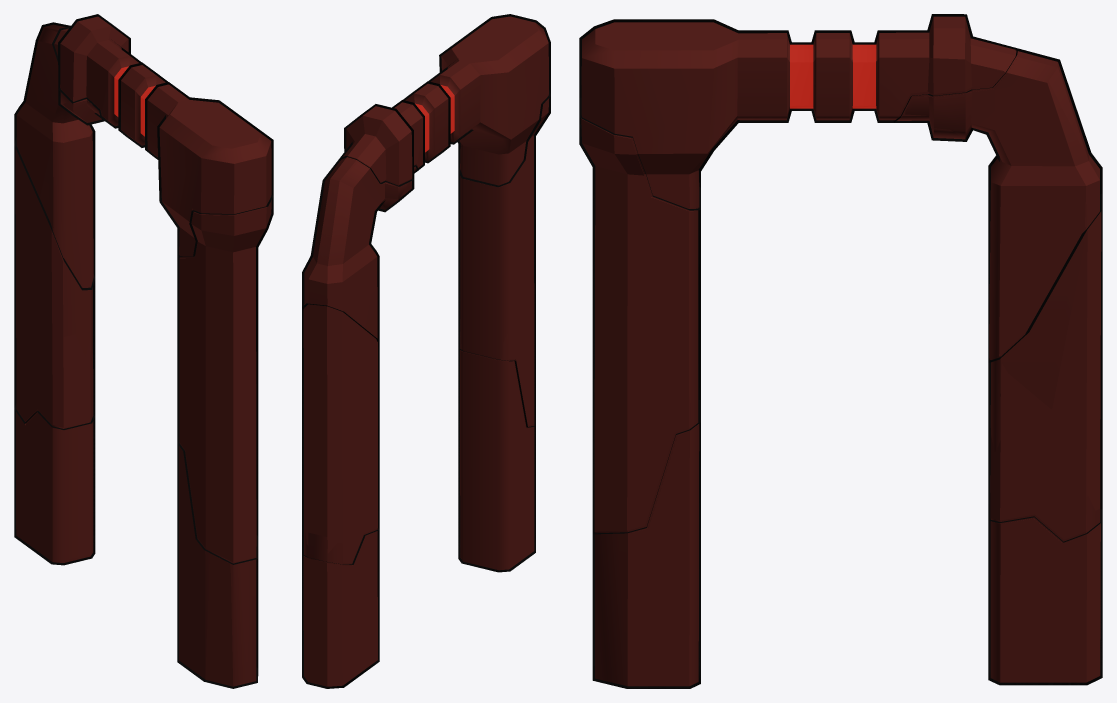
The model's file is Obstacle2.fbx.
The picture shows the model from 3 angles, left to right: view 1: azimuth 30°, elevation 25°; view 2: azimuth 150°, elevation 25°; view 3: azimuth 270°, elevation 25°; orthographic projection. The views are drawn at different scales.
Parts seen in each view (by area): view 1: Cube, Fragments.003, Fragments, Fragments.004, Fragments.002, Fragments.005, Fragments.001; view 2: Cube, Fragments.004, Fragments.001, Fragments.003, Fragments, Fragments.002, Fragments.005; view 3: Cube, Fragments.003, Fragments, Fragments.004, Fragments.005, Fragments.002, Fragments.001.
Boxes of the visible parts, <box> form: Cube: <box>14,14,273,687</box>; Fragments.003: <box>177,198,273,564</box>; Fragments: <box>52,15,273,256</box>; Fragments.004: <box>14,146,95,429</box>; Fragments.002: <box>14,409,95,565</box>; Fragments.005: <box>14,22,106,290</box>; Fragments.001: <box>177,446,258,688</box>; Cube: <box>302,14,550,688</box>; Fragments.004: <box>302,303,379,564</box>; Fragments.001: <box>458,348,535,571</box>; Fragments.003: <box>458,98,550,427</box>; Fragments: <box>341,16,550,187</box>; Fragments.002: <box>302,531,379,688</box>; Fragments.005: <box>302,156,418,338</box>; Cube: <box>579,14,1102,688</box>; Fragments.003: <box>580,118,700,534</box>; Fragments: <box>579,14,1017,210</box>; Fragments.004: <box>988,210,1102,542</box>; Fragments.005: <box>894,57,1102,362</box>; Fragments.002: <box>988,518,1102,685</box>; Fragments.001: <box>592,424,700,688</box>.
Size of the model in its own units: 200 by 1431 by 1038.
